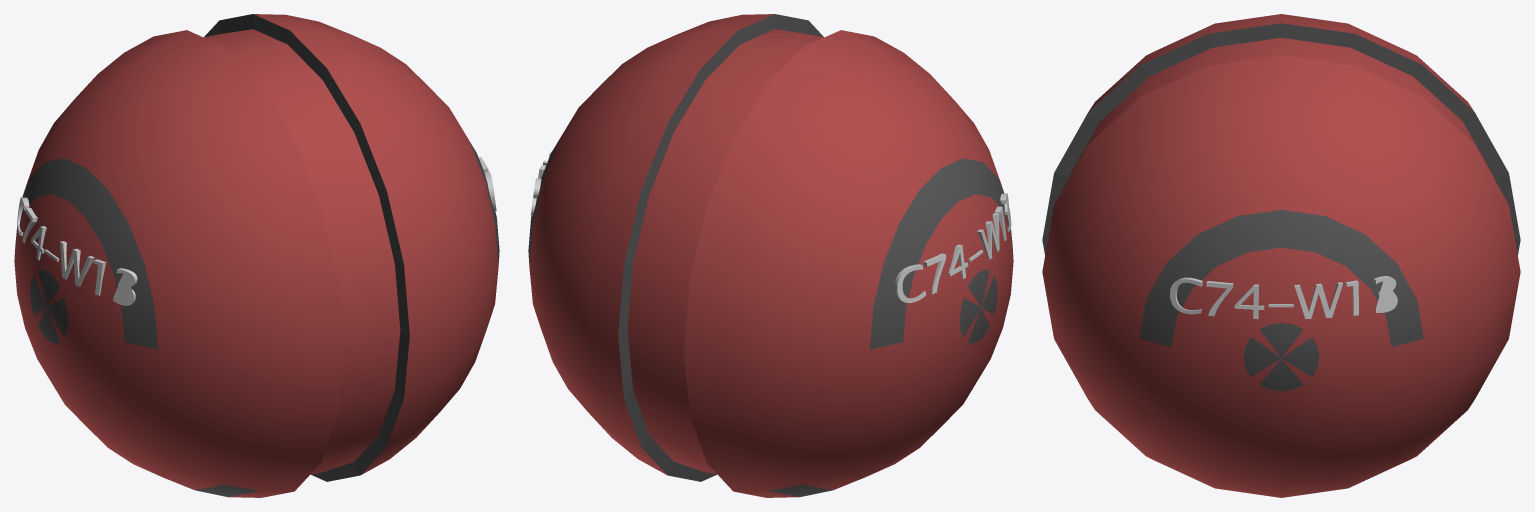
The model's file is Clawie_Body.fbx.
The picture shows the model from 3 angles, left to right: view 1: azimuth 30°, elevation 25°; view 2: azimuth 150°, elevation 25°; view 3: azimuth 270°, elevation 25°; orthographic projection.
Parts seen in each view (by area): view 1: Clawie_Body, Clawie_Name1; view 2: Clawie_Body, Clawie_Name1; view 3: Clawie_Body, Clawie_Name.
Part boxes in pixels (<box>): Clawie_Body: <box>14,14,499,497</box>; Clawie_Name1: <box>17,197,137,305</box>; Clawie_Body: <box>528,14,1013,497</box>; Clawie_Name1: <box>895,193,1011,302</box>; Clawie_Body: <box>1042,14,1520,497</box>; Clawie_Name: <box>1170,276,1397,319</box>.
Size of the model in its own units: 2 by 1.98 by 1.98.
